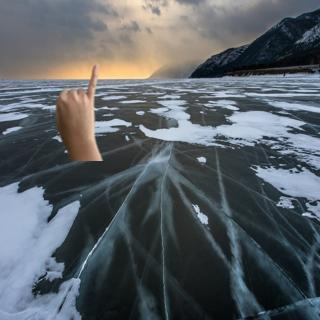FINE: (50, 60, 104, 144)
